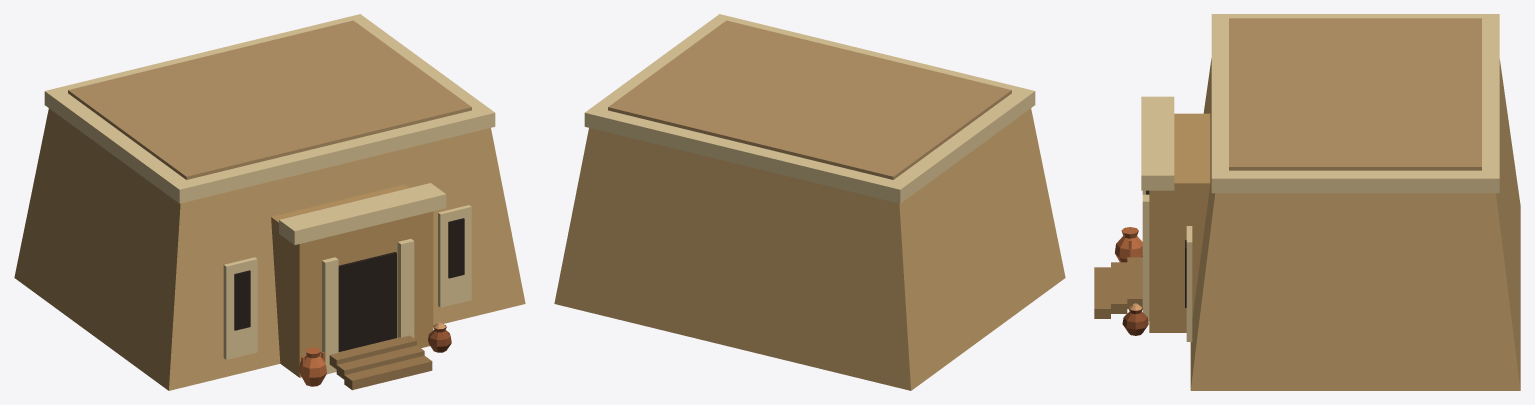
The model's file is desert_tomb.glb.
The picture shows the model from 3 angles, left to right: view 1: azimuth 30°, elevation 25°; view 2: azimuth 150°, elevation 25°; view 3: azimuth 270°, elevation 25°; orthographic projection. The views are drawn at different scales.
Visible parts, largest first — view 1: desert_tomb; view 2: desert_tomb; view 3: desert_tomb.
Boxes of the visible parts, box(x1,y1,x2,y2) form: desert_tomb: box(14, 14, 525, 390); desert_tomb: box(554, 14, 1065, 390); desert_tomb: box(1094, 14, 1520, 390).
Bounding box in the file's own units: 8 × 4.12 × 7.75.
